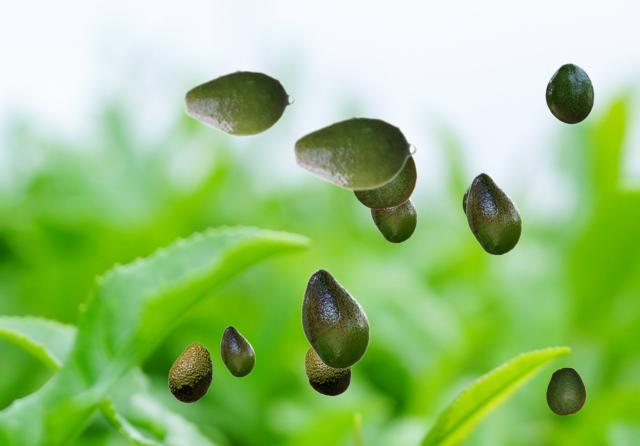avocado: (291, 114, 417, 191), (182, 68, 295, 137), (301, 268, 369, 368), (466, 172, 521, 254), (352, 157, 416, 208), (545, 63, 593, 123), (168, 342, 211, 402), (304, 347, 350, 395), (370, 198, 416, 242), (546, 367, 585, 414), (220, 325, 254, 376), (462, 184, 469, 216)
